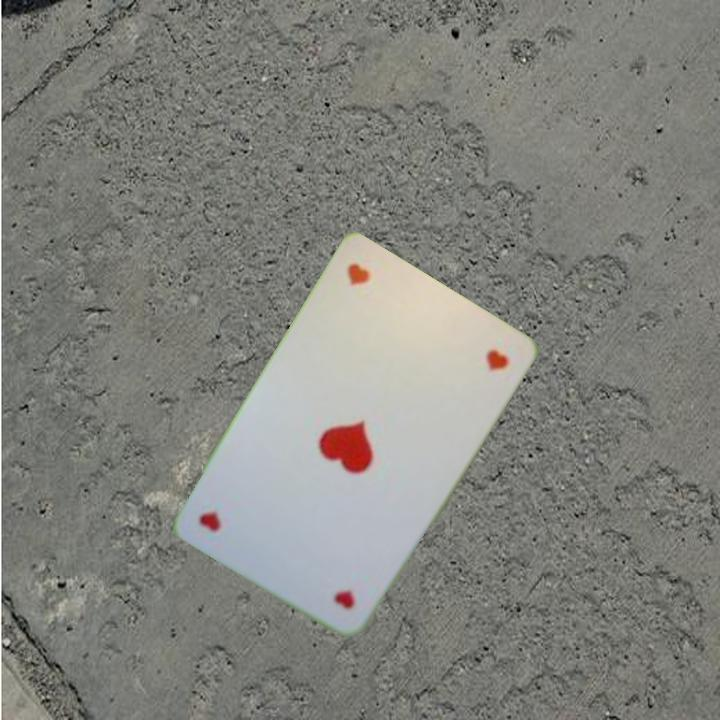h_a.png: (311, 250, 439, 374), (268, 501, 396, 624)
